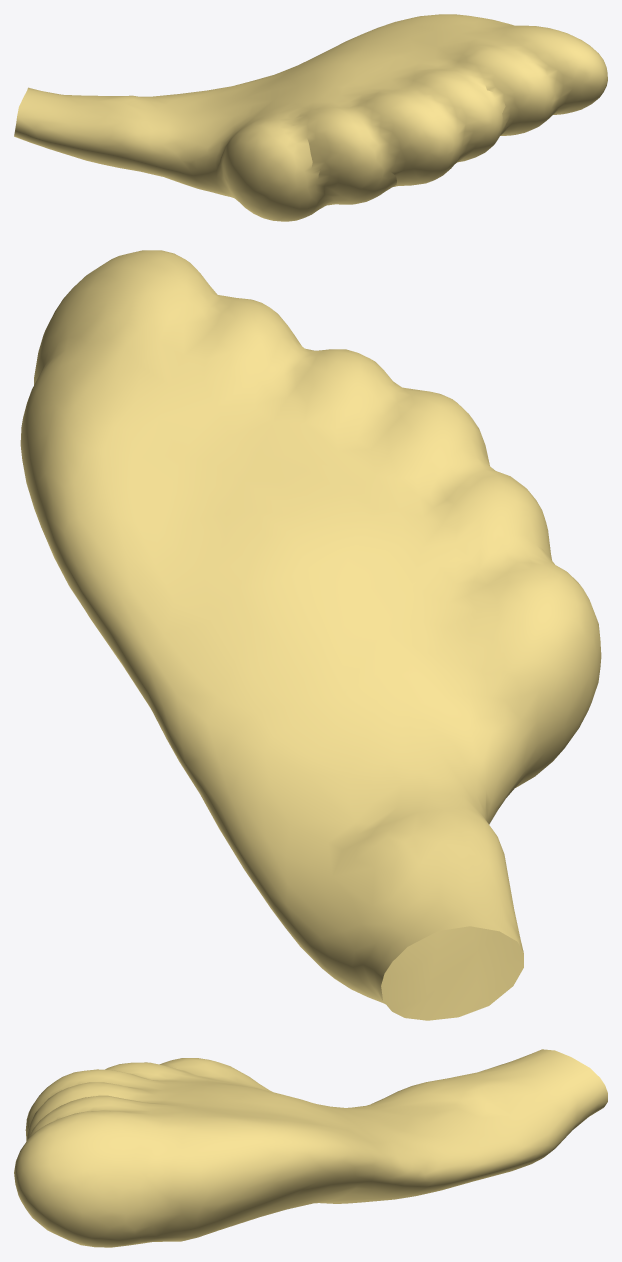
3 renders of one model, top to bottom at view 1: azimuth 30°, elevation 25°; view 2: azimuth 150°, elevation 25°; view 3: azimuth 270°, elevation 25°, orthographic. The views are drawn at different scales.
Visible parts, largest first — view 1: ZA_fba17e6215bf9b02; view 2: ZA_fba17e6215bf9b02; view 3: ZA_fba17e6215bf9b02.
Part boxes in pixels (<box>): ZA_fba17e6215bf9b02: <box>14,14,607,221</box>; ZA_fba17e6215bf9b02: <box>20,250,601,1020</box>; ZA_fba17e6215bf9b02: <box>14,1049,607,1247</box>.
Bounding box in the file's own units: 0.0184 × 0.00747 × 0.0177.
